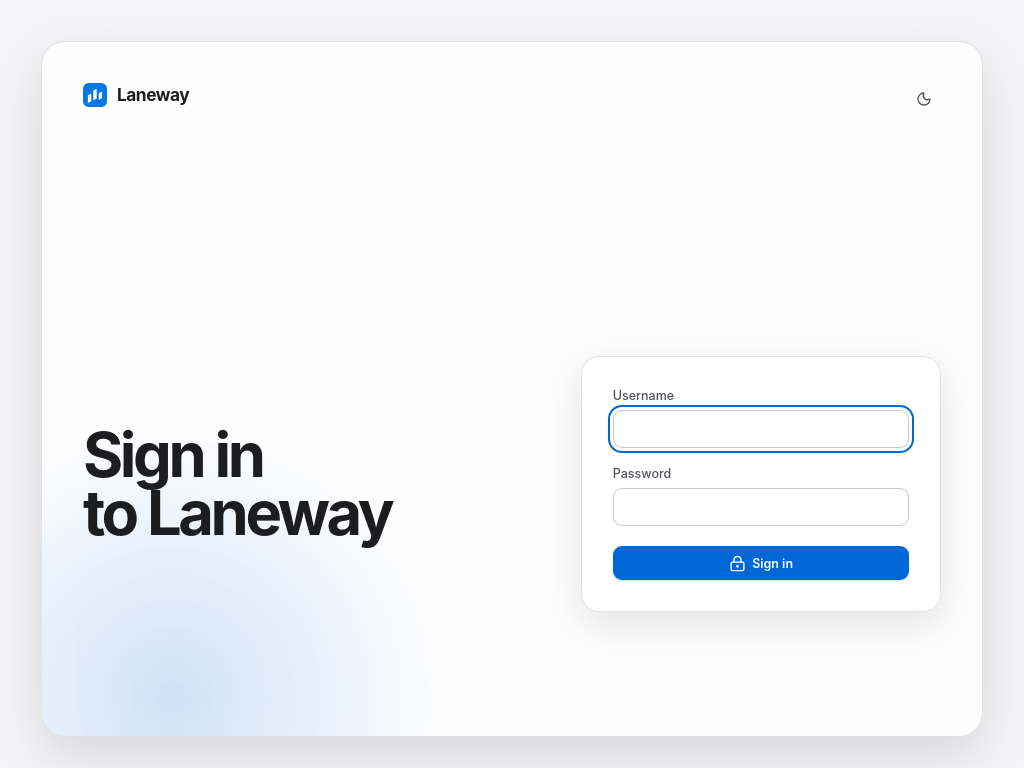
Test: Laneway browser sessions › signs in with a password and safely restores the original deep link
Expected: the heading "Sign in to Laneway" is shown, [83, 417, 391, 550]
Type "console-owner" into the field labelled "Username" at (761, 429), box [613, 410, 909, 448]
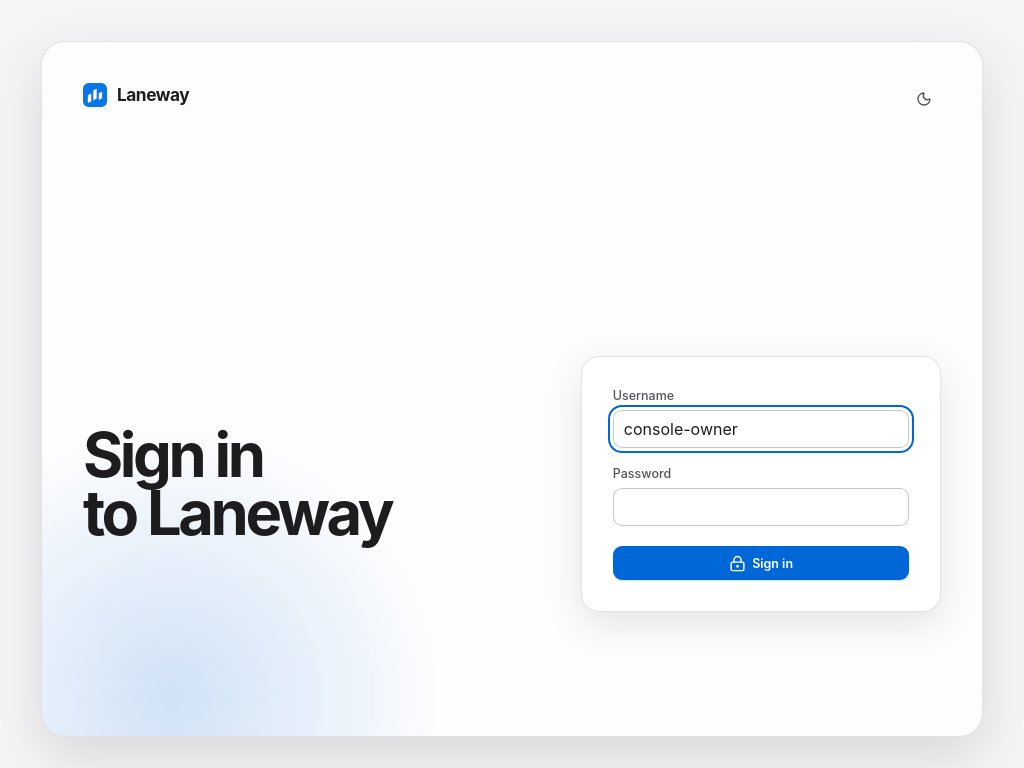
Type "a sufficiently long password" into the password field labelled "Password" at (761, 507), box [613, 488, 909, 526]
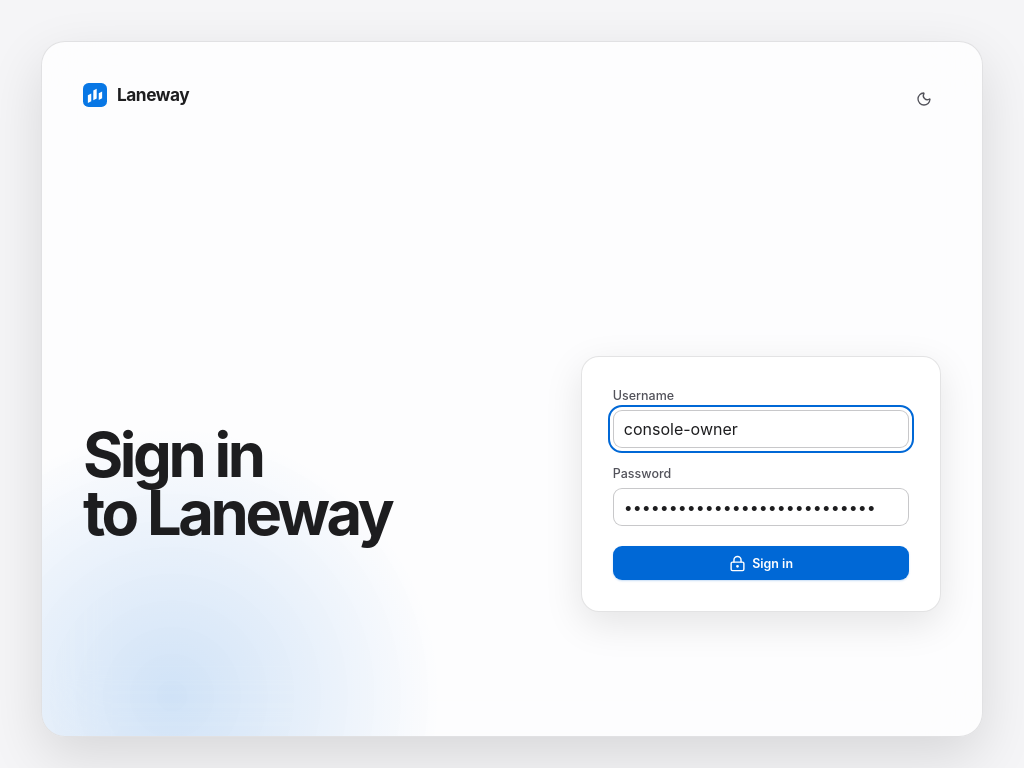
Click the button "Sign in" at (761, 563), box [613, 546, 909, 580]
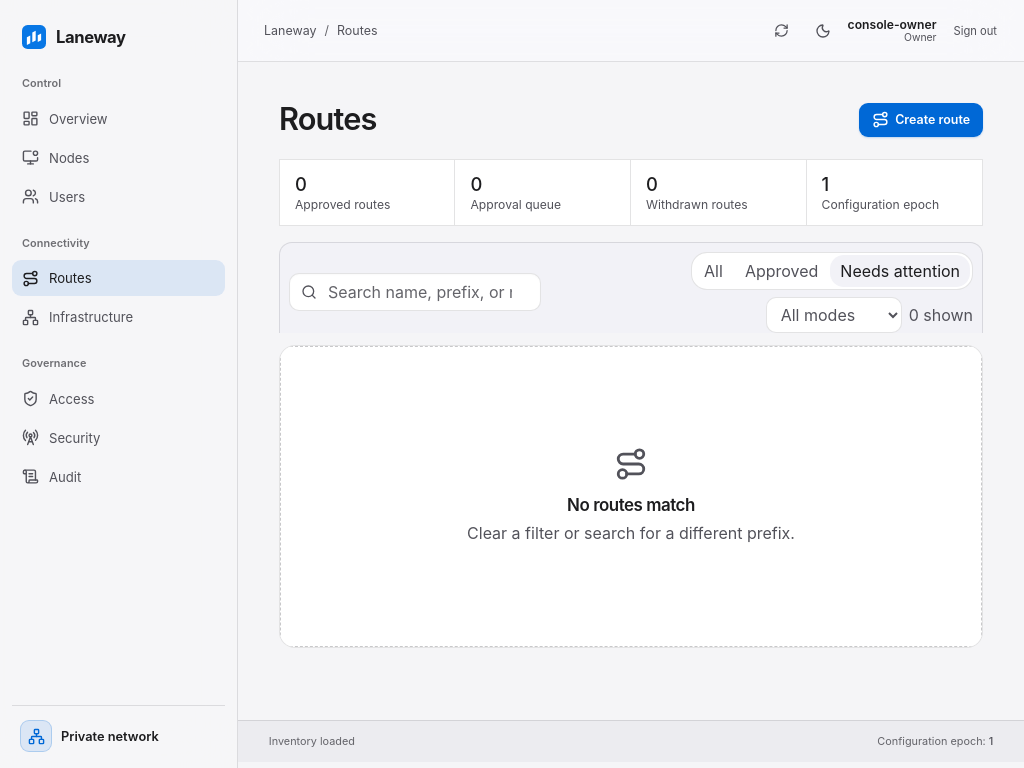
Now the heading "Routes" is shown, box [279, 100, 377, 137]
Now the element named "Signed in administrator" shows "console-owner", box [848, 16, 936, 32]
